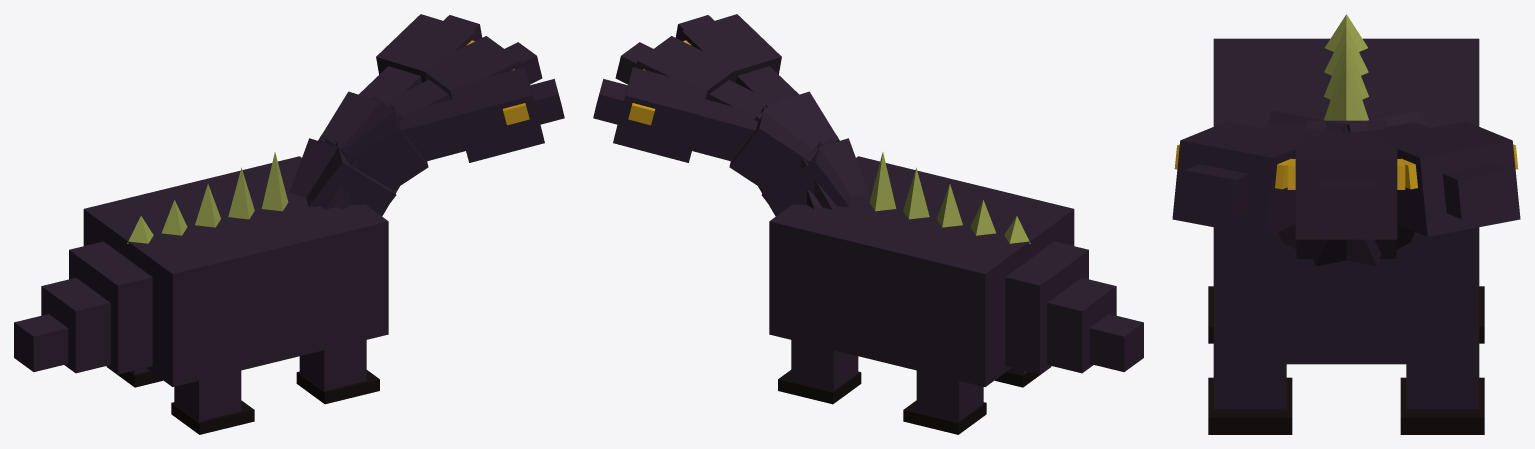
The model's file is hydra.glb.
3 renders of one model, left to right at view 1: azimuth 30°, elevation 25°; view 2: azimuth 150°, elevation 25°; view 3: azimuth 270°, elevation 25°, orthographic. The views are drawn at different scales.
Parts seen in each view (by area): view 1: geometry_0; view 2: geometry_0; view 3: geometry_0.
Boxes of the visible parts, x1,y1,x2,y2 form: geometry_0: (14,14,564,434); geometry_0: (593,14,1143,434); geometry_0: (1172,14,1520,434).
Size of the model in its own units: 1.32 by 0.6619 by 0.5241.
